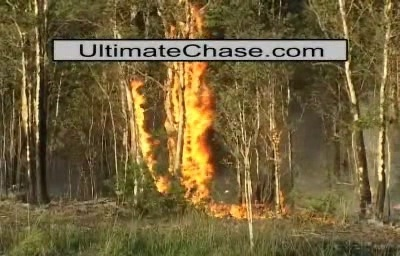fire: (163, 60, 217, 217), (121, 75, 162, 196), (161, 0, 208, 38), (209, 197, 249, 219)
